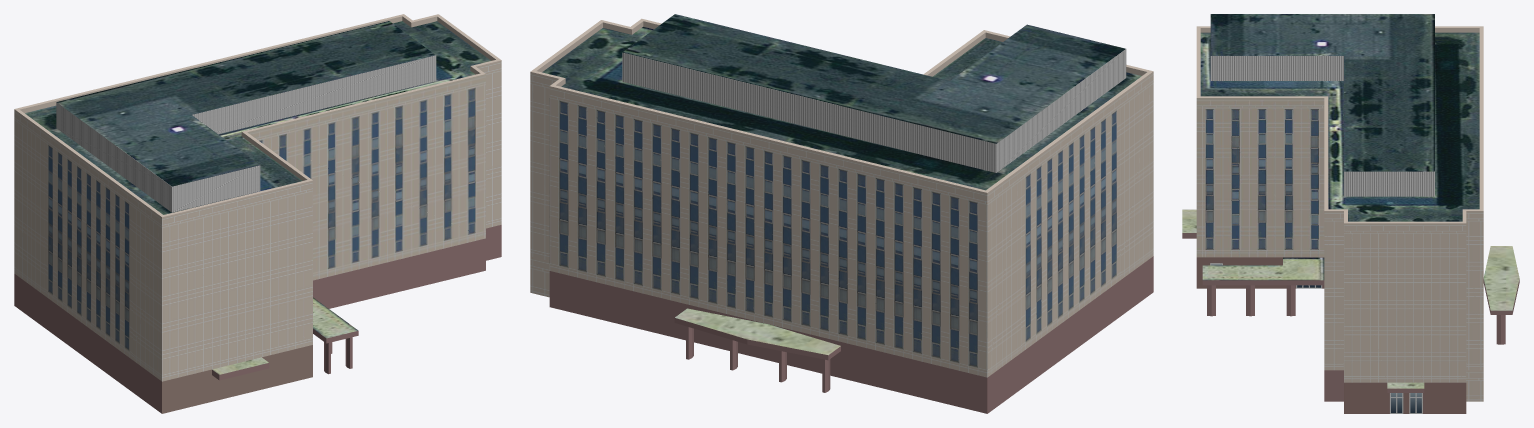
The model's file is Krannert.fbx.
3 renders of one model, left to right at view 1: azimuth 30°, elevation 25°; view 2: azimuth 150°, elevation 25°; view 3: azimuth 270°, elevation 25°, orthographic. The views are drawn at different scales.
Visible parts, largest first — view 1: Model; view 2: Model; view 3: Model.
Part boxes in pixels (left/top/right/bottom): Model: left=14, top=14, right=501, bottom=413; Model: left=530, top=14, right=1153, bottom=413; Model: left=1182, top=14, right=1519, bottom=413.
Bounding box in the file's own units: 2636 × 1316 × 1852.
